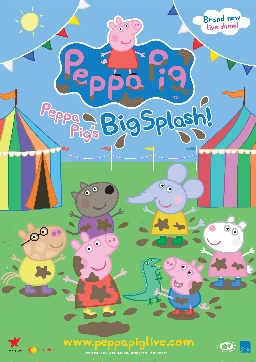Peppa: (63, 231, 127, 319)
